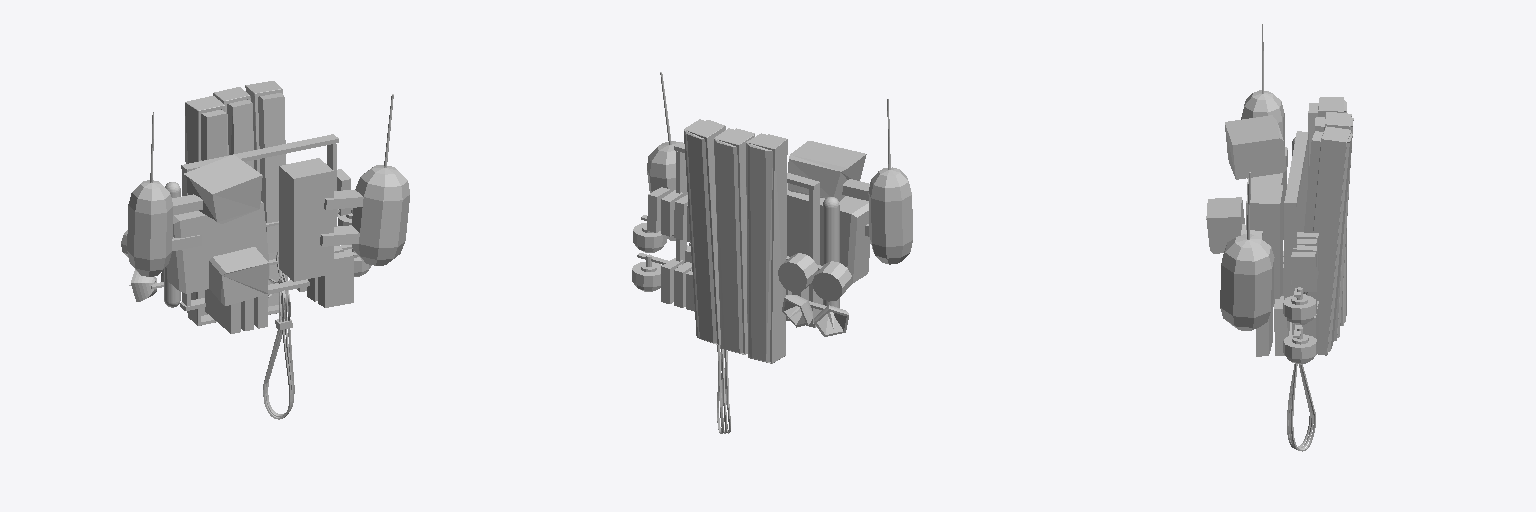
The model's file is cell1.obj.
3 views of the same model, side by side, from view 1: azimuth 30°, elevation 25°; view 2: azimuth 150°, elevation 25°; view 3: azimuth 270°, elevation 25° (orthographic).
Parts seen in each view (by area): view 1: grey_1, darkgrey, black, grey, shineyblack; view 2: darkgrey, grey_1, grey, black, white, shineyblack; view 3: grey_1, darkgrey, black, grey, white, shineyblack.
Part boxes in pixels (x1,y1,x2,y2): grey_1: (127,94,409,307); darkgrey: (185,81,292,329); black: (151,134,352,310); grey: (129,169,350,333); shineyblack: (263,252,368,419); darkgrey: (684,119,787,363); grey_1: (647,72,912,283); grey: (647,187,848,336); black: (637,141,866,327); white: (632,223,851,301); shineyblack: (634,245,730,433); grey_1: (1220,24,1289,356); darkgrey: (1304,97,1353,355); black: (1225,115,1308,337); grey: (1206,137,1318,344); white: (1283,287,1316,359); shineyblack: (1286,292,1315,451).
Size of the model in its own units: 661 by 840 by 315.